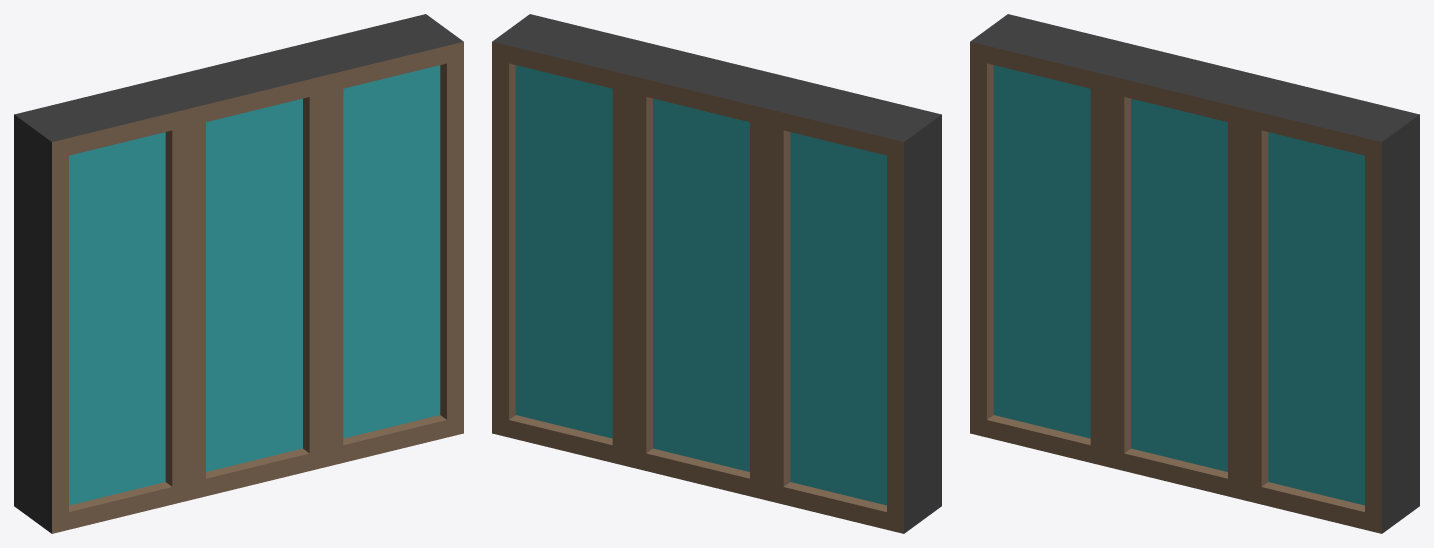
Rendered from Large_Window.FBX.
3 views of the same model, side by side, from view 1: azimuth 30°, elevation 25°; view 2: azimuth 150°, elevation 25°; view 3: azimuth 330°, elevation 25° (orthographic).
Visible parts, largest first — view 1: large window; view 2: large window; view 3: large window.
Part boxes in pixels (left/top/right/bottom): large window: left=14, top=14, right=463, bottom=533; large window: left=492, top=14, right=941, bottom=533; large window: left=970, top=14, right=1419, bottom=533.
Size of the model in its own units: 2.2 by 2 by 0.35.
